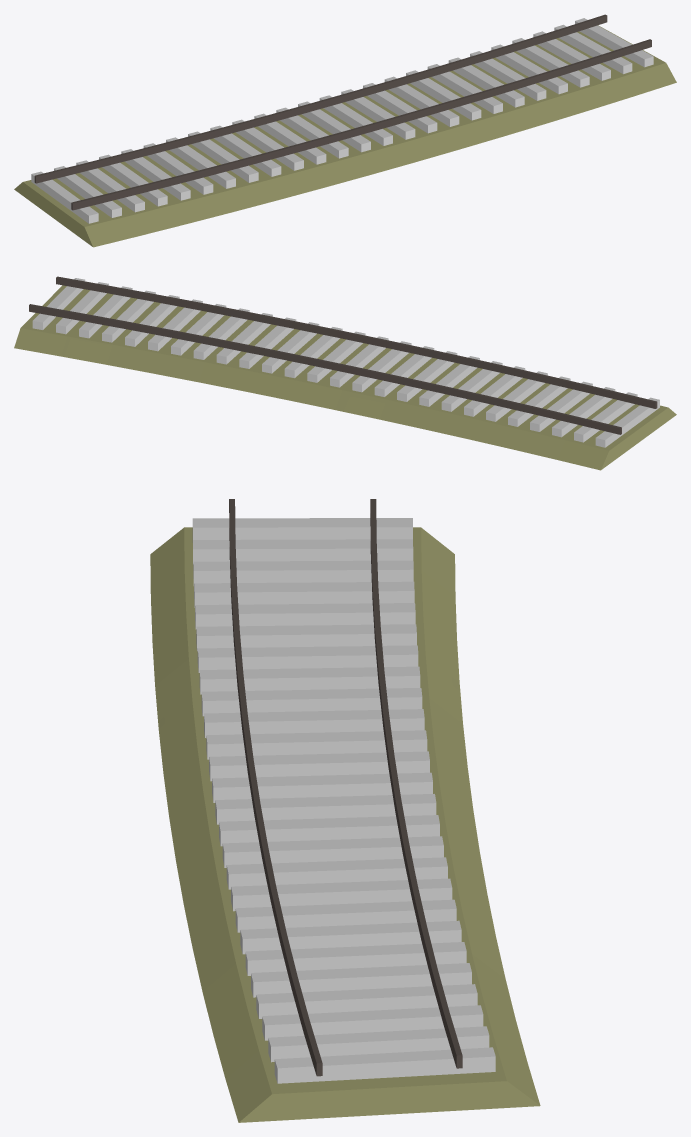
Rendered from SM_Via_CurvaR120_v0_Hormigon_LOD0.fbx.
3 views of the same model, one above another, from view 1: azimuth 30°, elevation 25°; view 2: azimuth 150°, elevation 25°; view 3: azimuth 270°, elevation 25° (orthographic). The views are drawn at different scales.
Visible parts, largest first — view 1: SM_via_trazado_v15_LOD0; view 2: SM_via_trazado_v15_LOD0; view 3: SM_via_trazado_v15_LOD0.
Part boxes in pixels (bbox=[...]): SM_via_trazado_v15_LOD0: bbox=[14, 14, 676, 247]; SM_via_trazado_v15_LOD0: bbox=[14, 276, 676, 470]; SM_via_trazado_v15_LOD0: bbox=[150, 499, 540, 1122].
Size of the model in its own units: 15.9 by 0.72 by 4.61.
